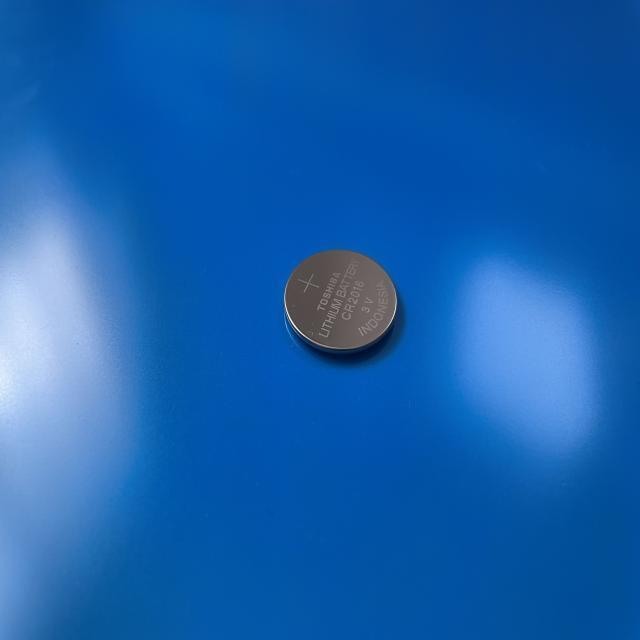COIN: (282, 247, 400, 359)
